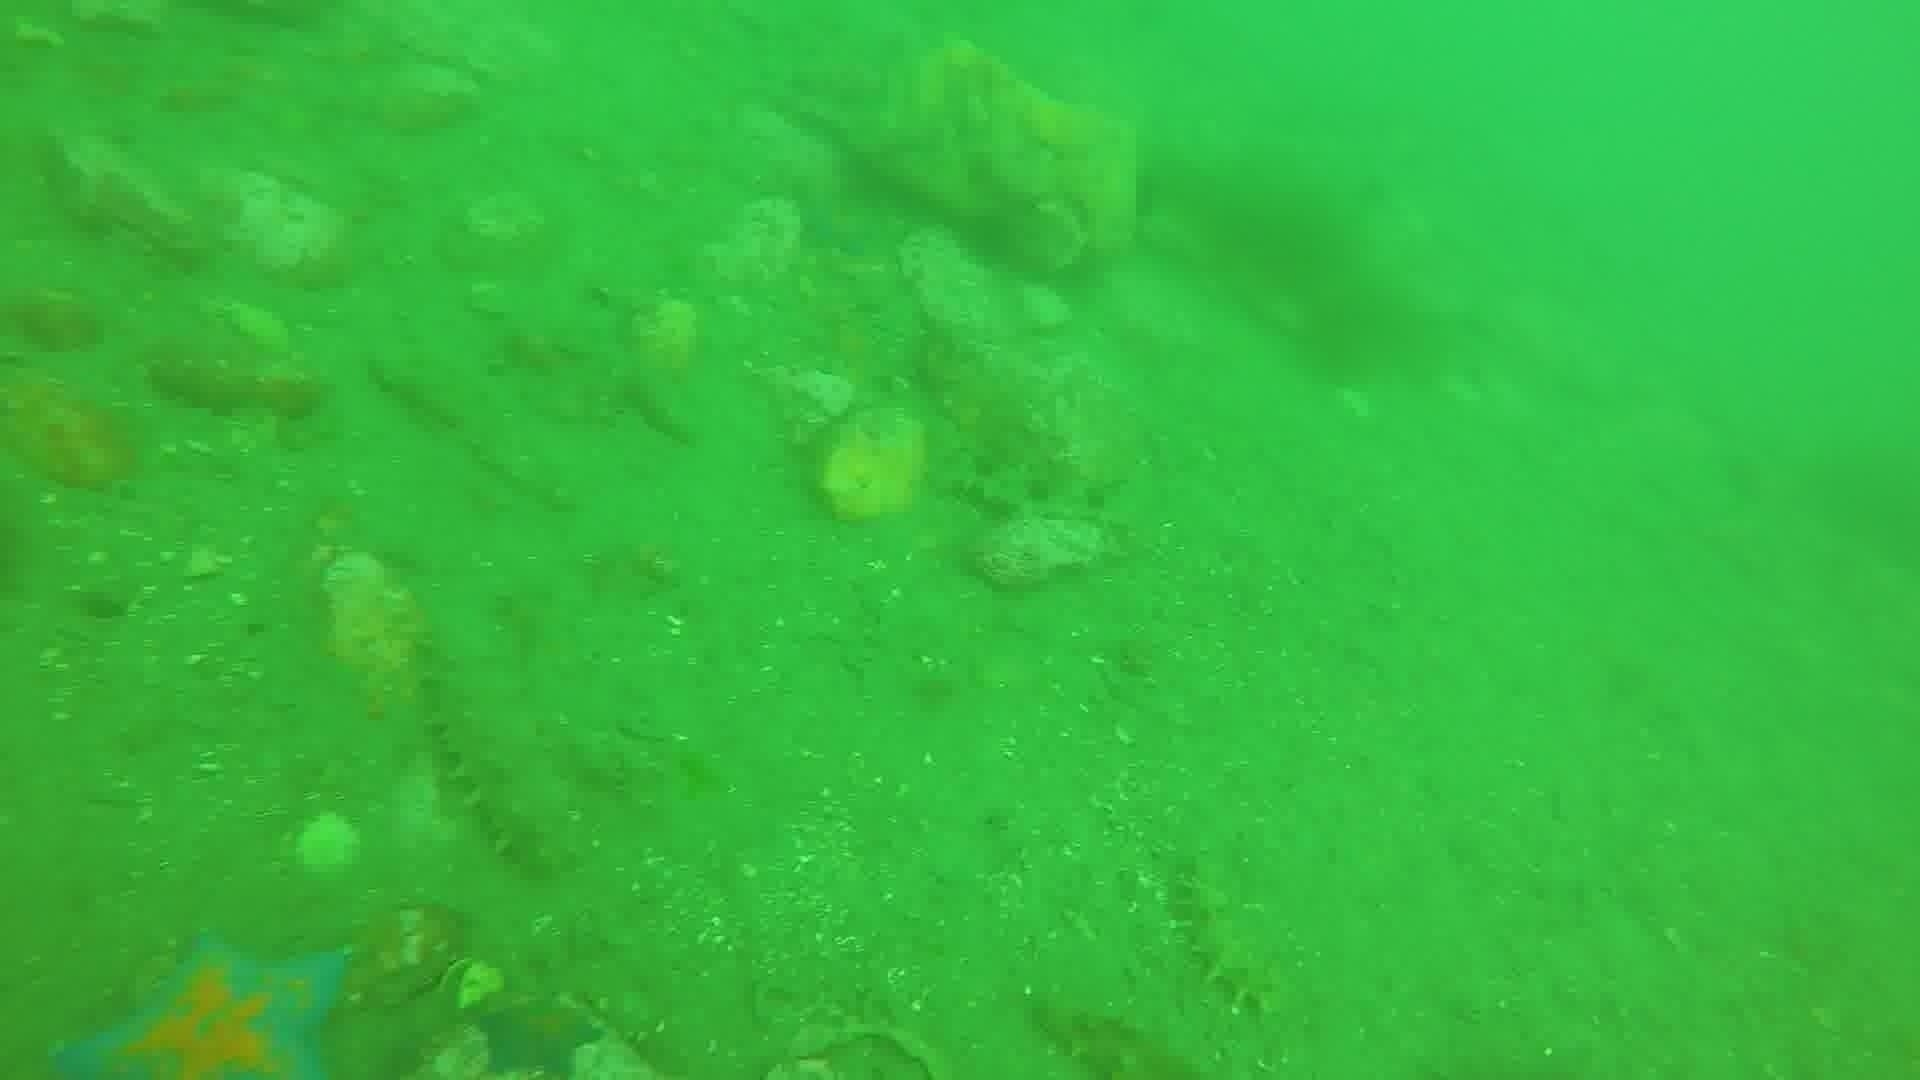holothurian: (415, 592, 578, 880), (913, 427, 1142, 535), (1166, 845, 1288, 1019), (1026, 992, 1213, 1077)
starfish: (61, 928, 357, 1073), (472, 990, 609, 1076), (790, 186, 903, 265)
